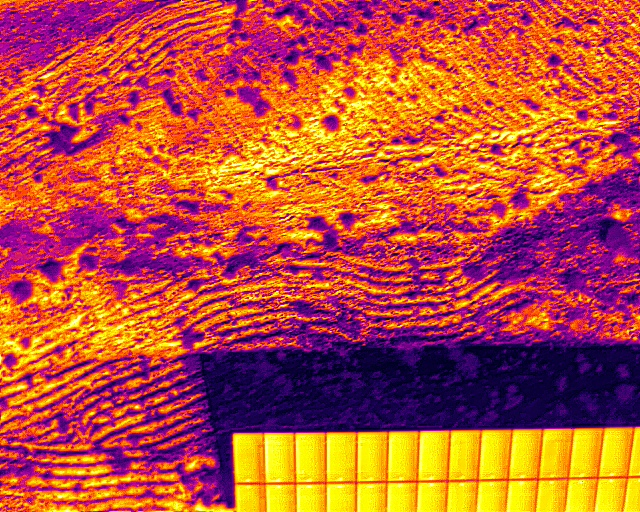photovoltaic_panels: (230, 424, 639, 510)
